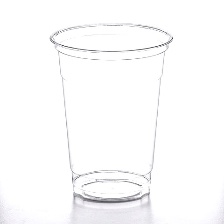glass: (46, 16, 175, 204)
